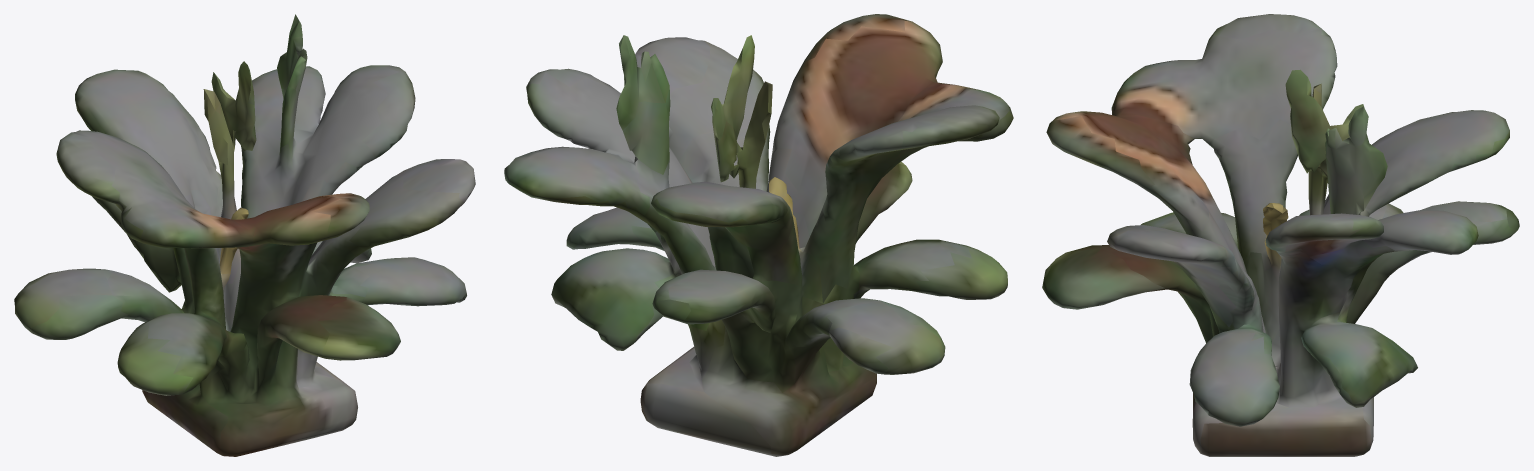
Rendered from s11_planta_folhas.glb.
3 views of the same model, side by side, from view 1: azimuth 30°, elevation 25°; view 2: azimuth 150°, elevation 25°; view 3: azimuth 270°, elevation 25° (orthographic). The views are drawn at different scales.
Visible parts, largest first — view 1: s11_planta_folhas; view 2: s11_planta_folhas; view 3: s11_planta_folhas.
Part boxes in pixels (x1=…): s11_planta_folhas: x1=14, y1=14, x2=475, y2=456; s11_planta_folhas: x1=504, y1=14, x2=1013, y2=456; s11_planta_folhas: x1=1042, y1=14, x2=1519, y2=456.
Size of the model in its own units: 0.9477 by 0.8254 by 0.9792.
1 material, 1 textured.
